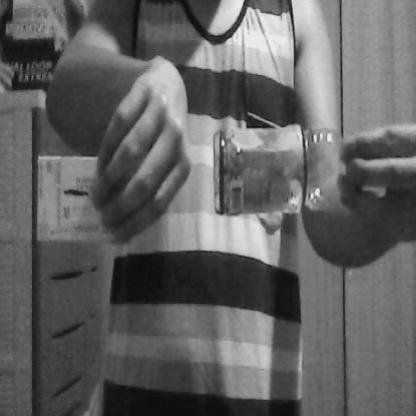Plastic Bottle: (209, 114, 383, 231)
